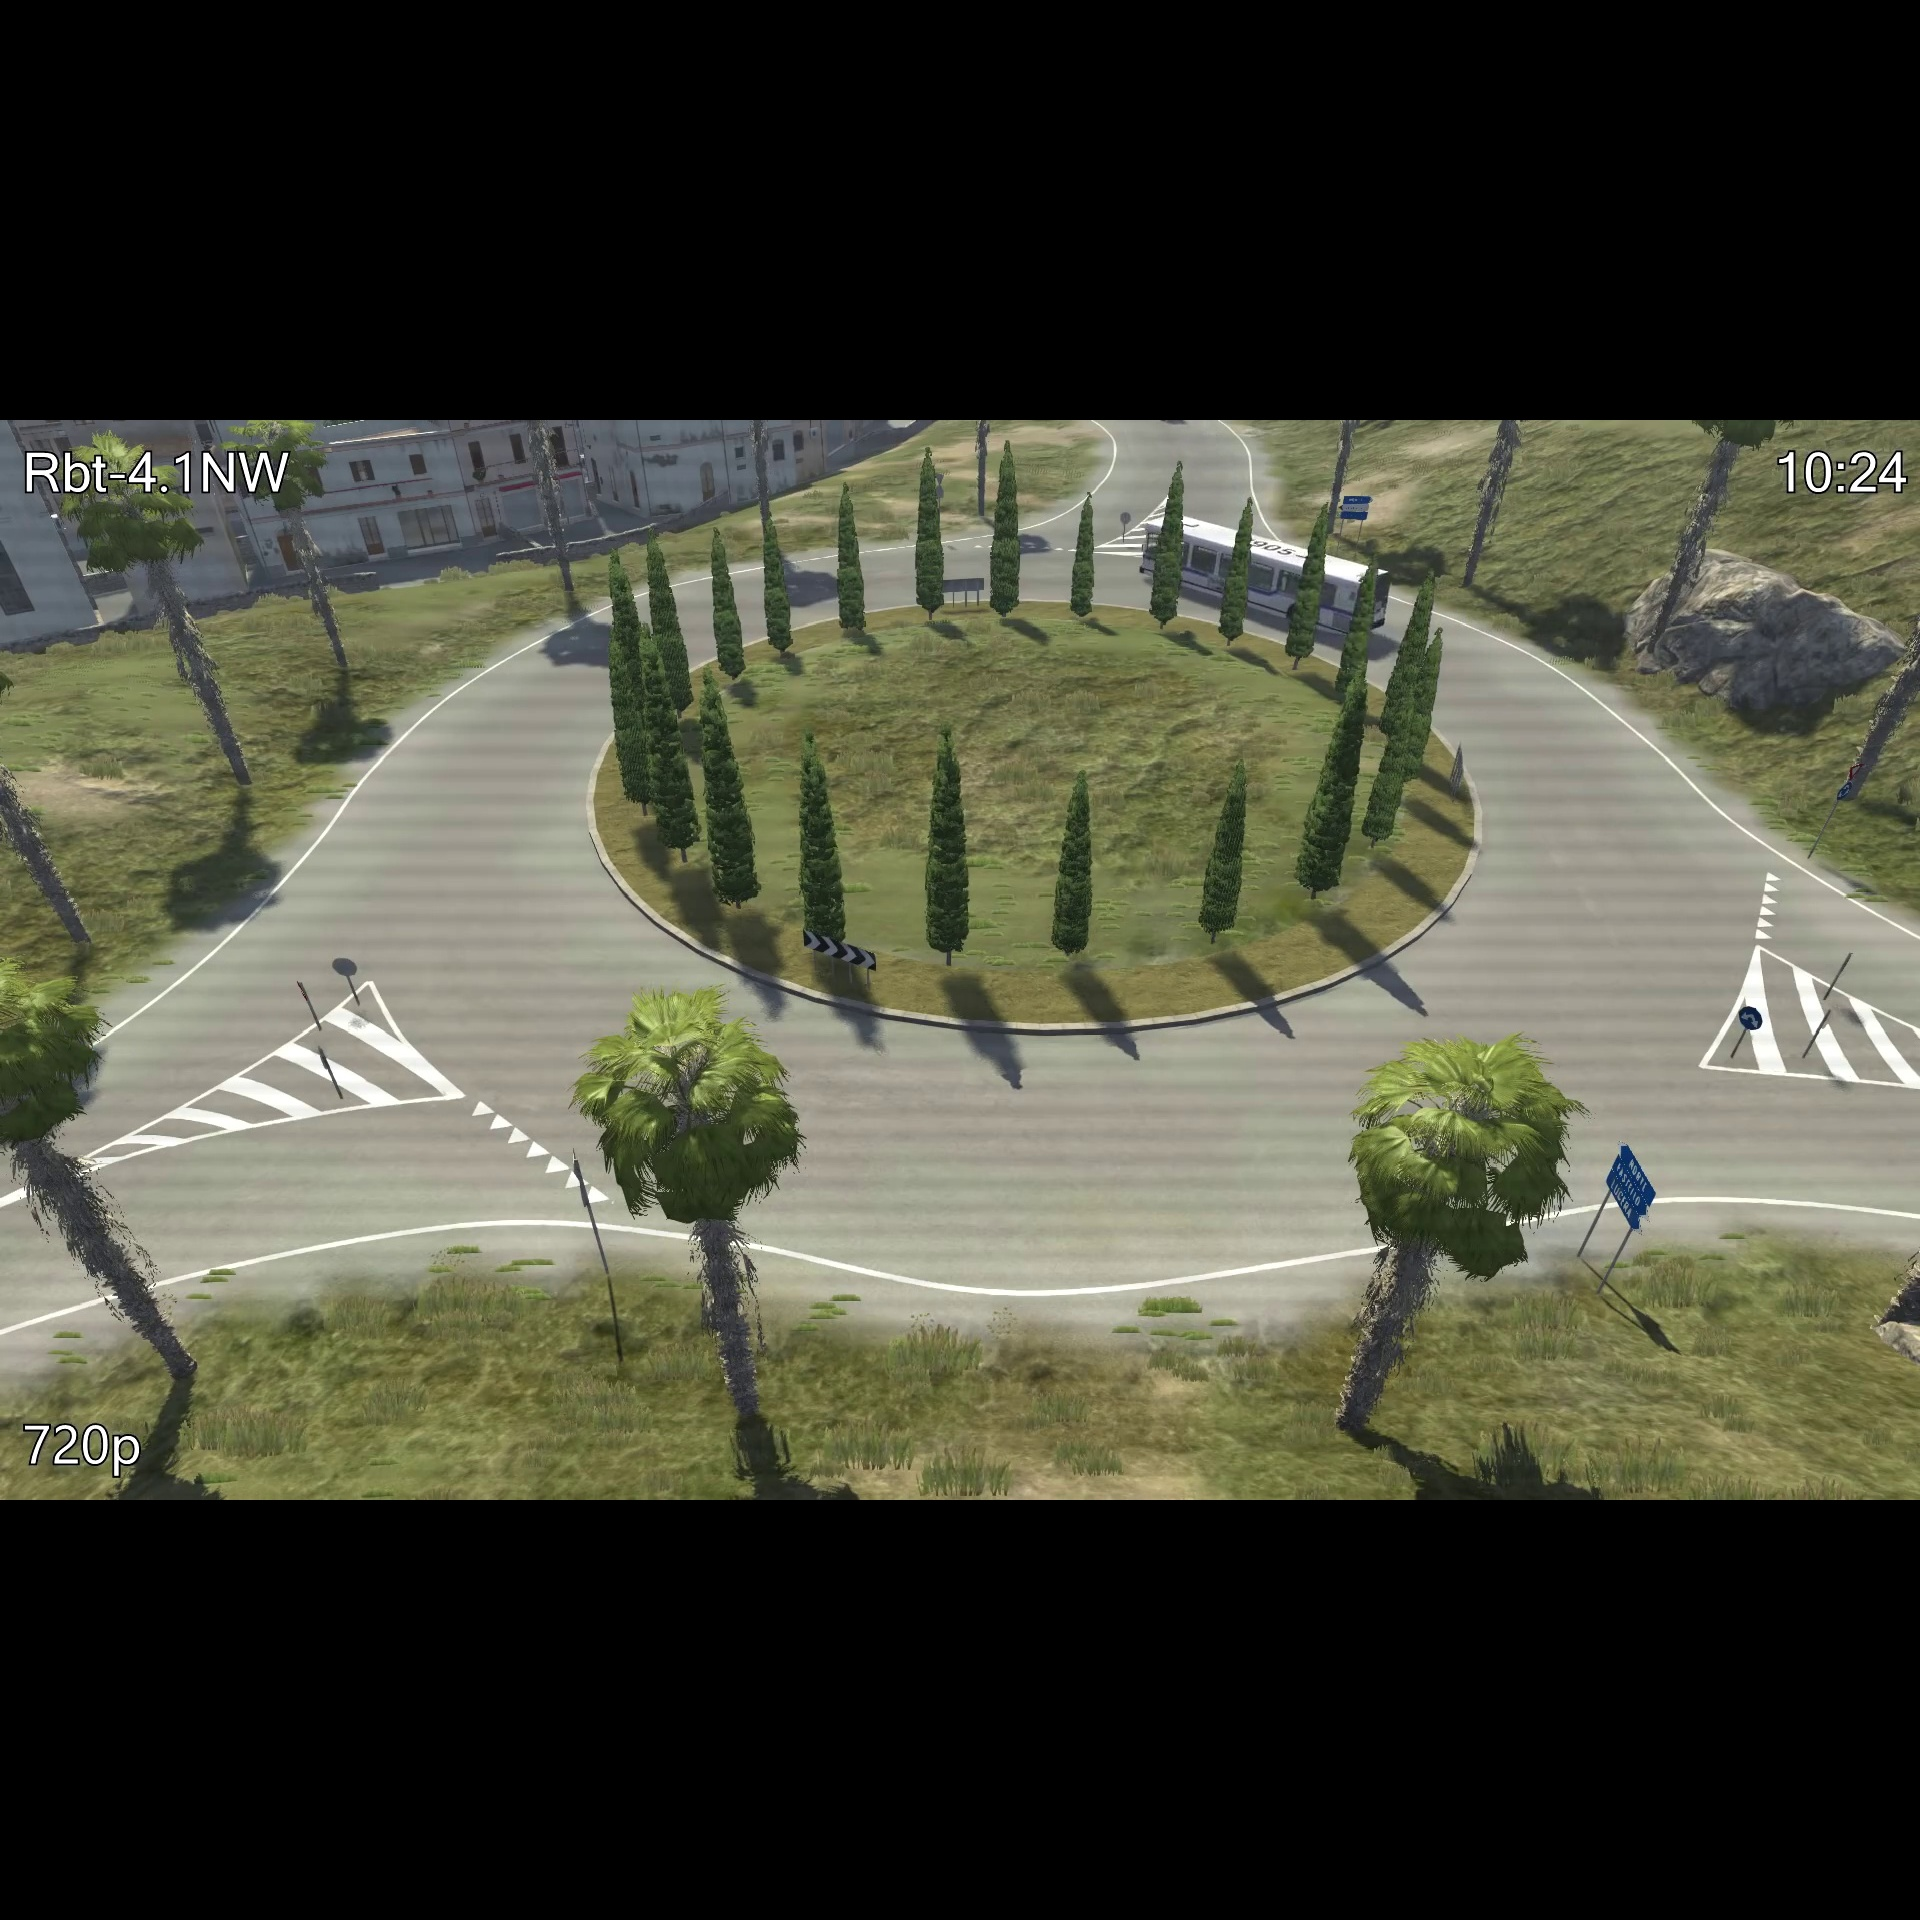vehicle: (1138, 506, 1396, 638)
